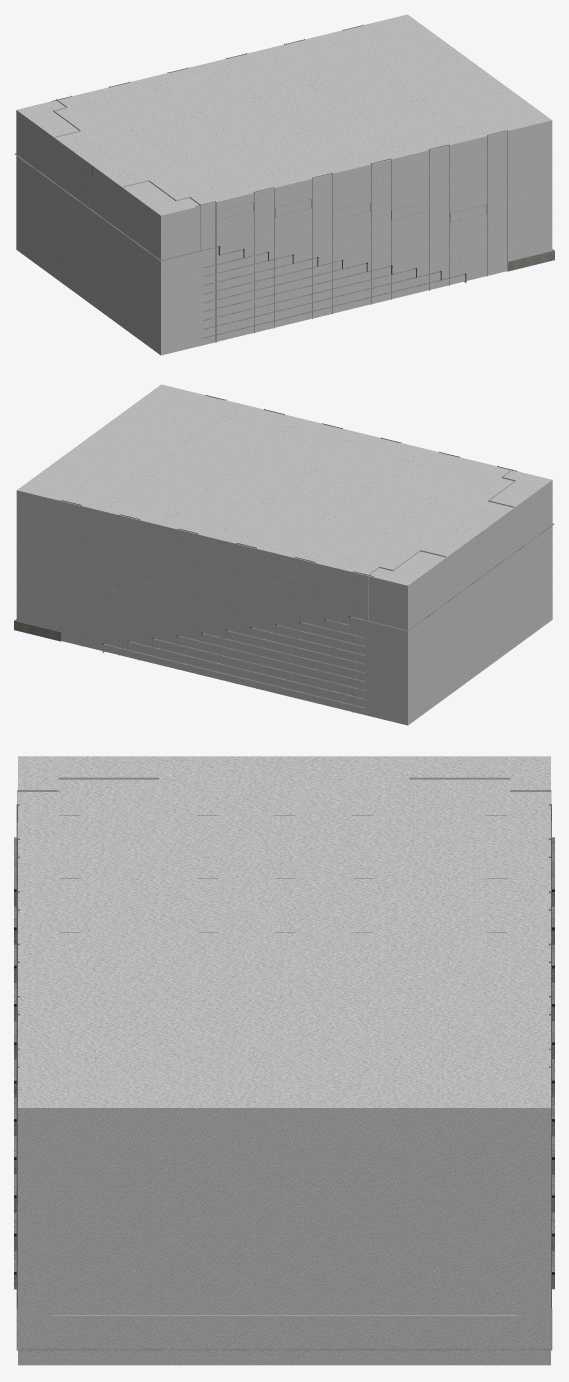
The picture shows the model from 3 angles, top to bottom: view 1: azimuth 30°, elevation 25°; view 2: azimuth 150°, elevation 25°; view 3: azimuth 270°, elevation 25°; orthographic projection. The views are drawn at different scales.
Parts seen in each view (by area): view 1: Cinema room_23, Floor_25; view 2: Cinema room_23, Floor_25; view 3: Cinema room_23, Floor_25.
Boxes of the visible parts, box(x1,y1,x2,y2) form: Cinema room_23: box(16, 14, 554, 355); Floor_25: box(14, 153, 466, 338); Cinema room_23: box(14, 384, 552, 725); Floor_25: box(102, 523, 554, 708); Cinema room_23: box(16, 756, 552, 1365); Floor_25: box(14, 837, 554, 1289).
Size of the model in its own units: 14.81 by 5.1 by 9.55.
9 materials, 4 textured.
